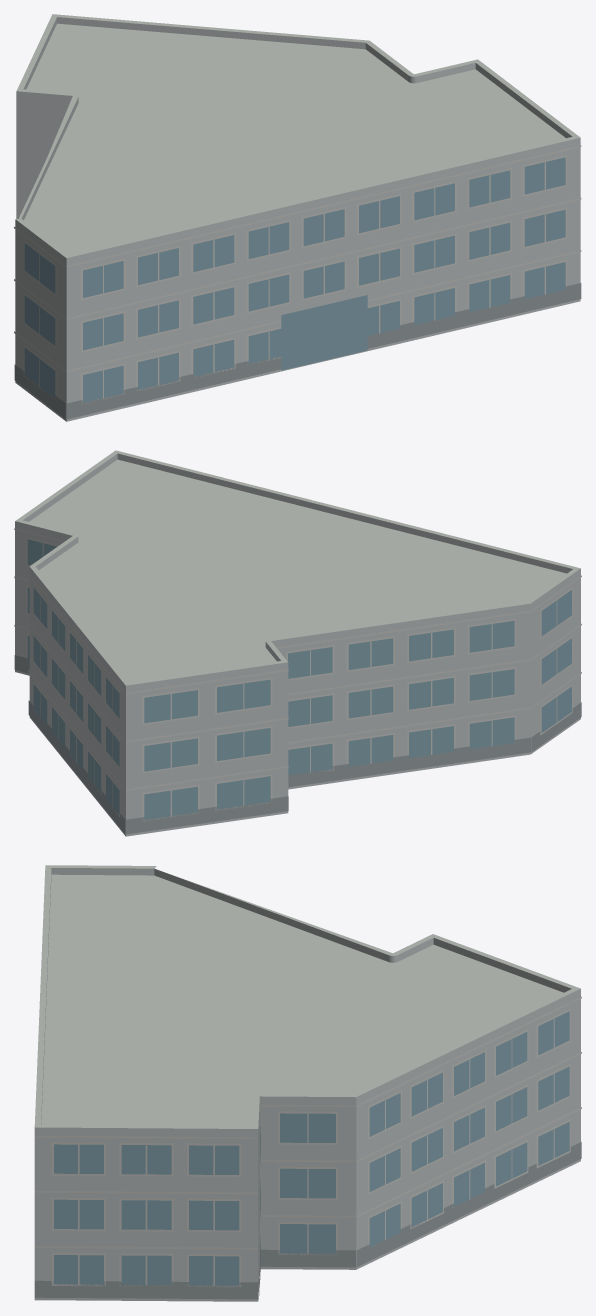
Rendered from public-c28d3aa1-9bf8-4cf8-ab60-cce999c99243.glb.
3 renders of one model, top to bottom at view 1: azimuth 30°, elevation 25°; view 2: azimuth 150°, elevation 25°; view 3: azimuth 270°, elevation 25°, orthographic. The views are drawn at different scales.
Visible parts, largest first — view 1: public-c28d3aa1-9bf8-4cf8-ab60-cce999c99243; view 2: public-c28d3aa1-9bf8-4cf8-ab60-cce999c99243; view 3: public-c28d3aa1-9bf8-4cf8-ab60-cce999c99243.
Boxes of the visible parts, box(x1,y1,x2,y2) form: public-c28d3aa1-9bf8-4cf8-ab60-cce999c99243: box(14, 14, 581, 421); public-c28d3aa1-9bf8-4cf8-ab60-cce999c99243: box(14, 450, 581, 836); public-c28d3aa1-9bf8-4cf8-ab60-cce999c99243: box(34, 865, 581, 1301).
Size of the model in its own units: 30.13 by 9.15 by 27.27.
